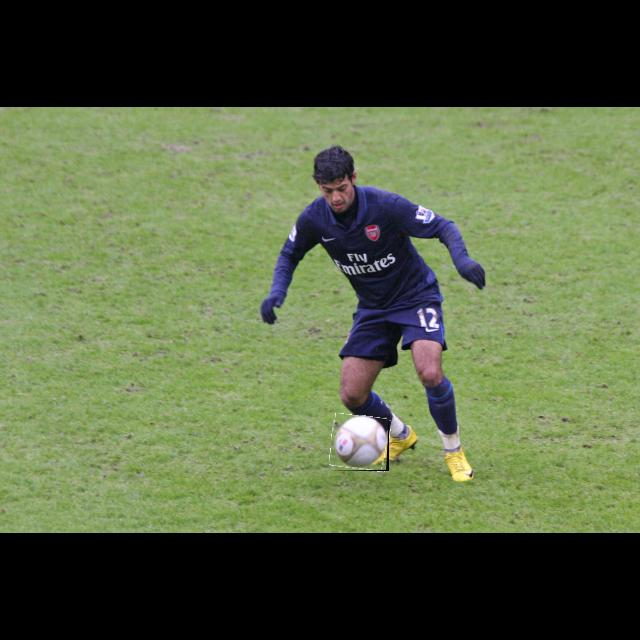Football: (331, 415, 389, 471)
